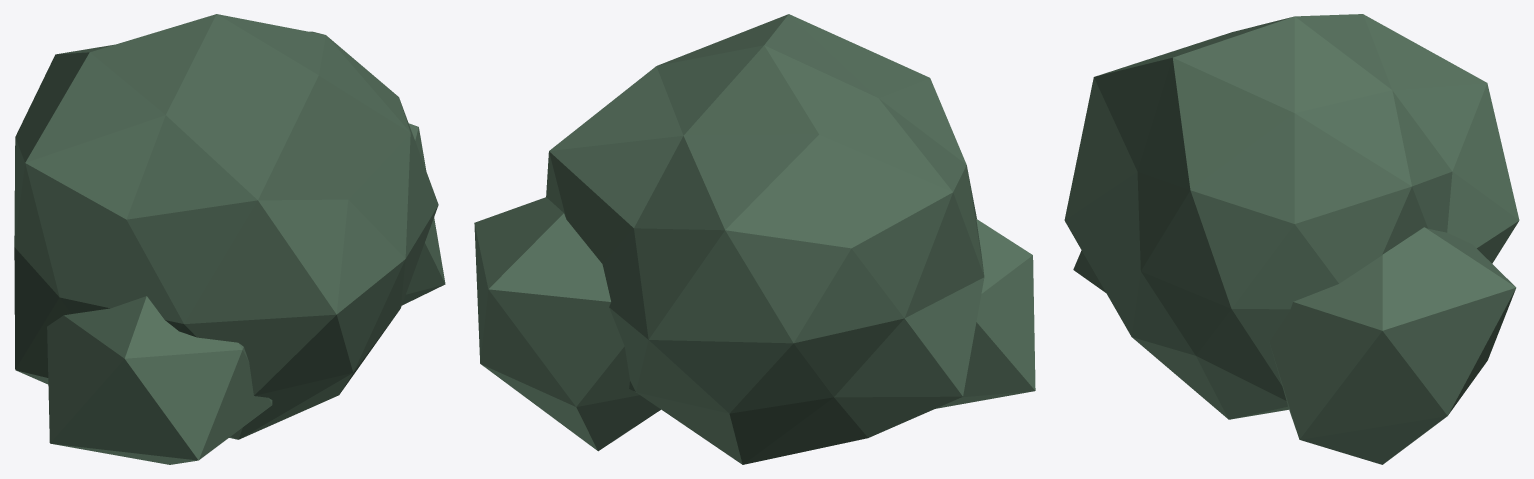
The model's file is scrub_gorse.glb.
3 views of the same model, side by side, from view 1: azimuth 30°, elevation 25°; view 2: azimuth 150°, elevation 25°; view 3: azimuth 270°, elevation 25° (orthographic). The views are drawn at different scales.
Parts seen in each view (by area): view 1: scrub_gorse; view 2: scrub_gorse; view 3: scrub_gorse.
Boxes of the visible parts, left/top/right/bottom form: scrub_gorse: left=14, top=14, right=445, bottom=464; scrub_gorse: left=474, top=14, right=1035, bottom=464; scrub_gorse: left=1064, top=14, right=1519, bottom=464.
Size of the model in its own units: 1.44 by 1.2 by 1.26.
